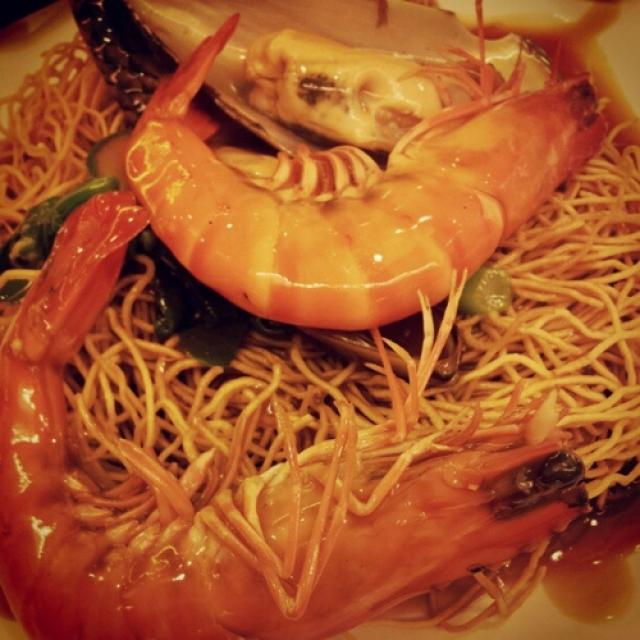面条主食: (4, 8, 630, 610)
